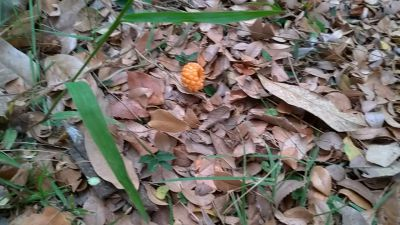eggs: (179, 58, 207, 95)
